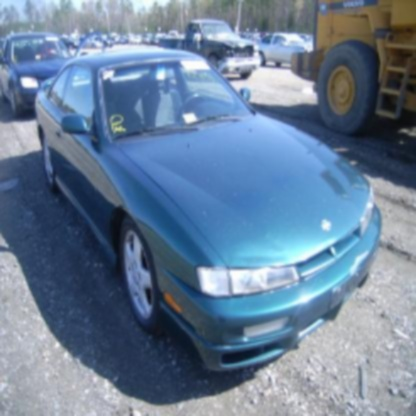Vehicle: (32, 44, 383, 375)
